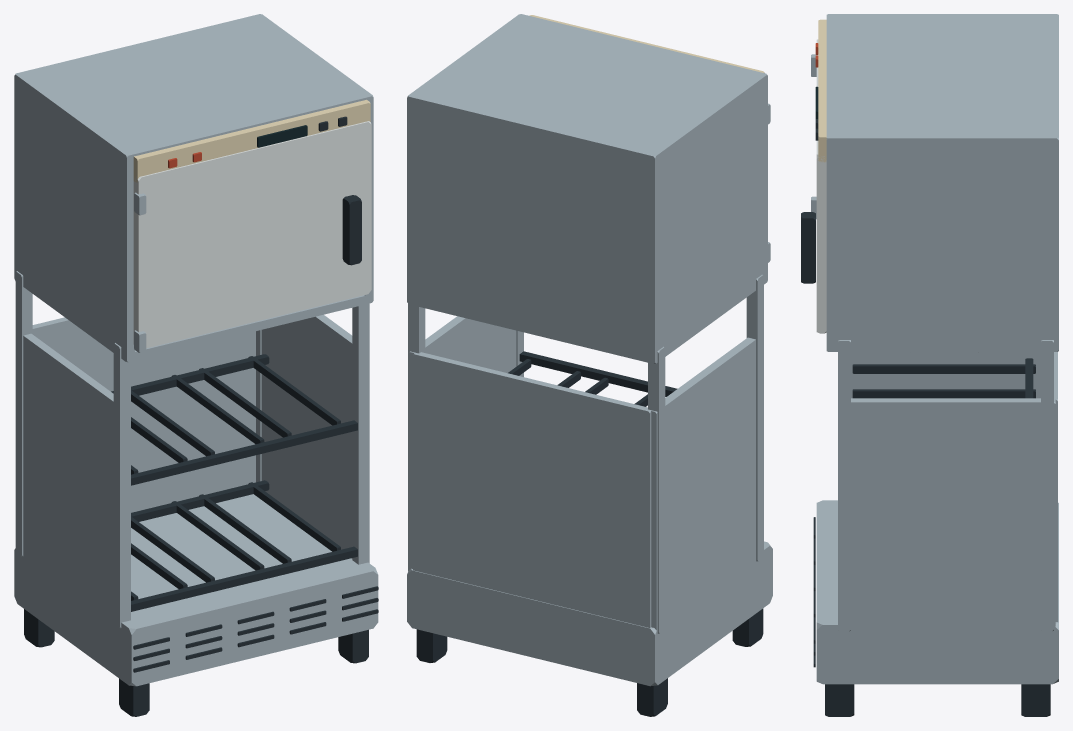
Rendered from FryHopper.glb.
3 renders of one model, left to right at view 1: azimuth 30°, elevation 25°; view 2: azimuth 150°, elevation 25°; view 3: azimuth 270°, elevation 25°, orthographic. The views are drawn at different scales.
Parts seen in each view (by area): view 1: Body, Door, Vent; view 2: Body; view 3: Body, Door, Vent.
Boxes of the visible parts, bbox=[...] form: Body: bbox=[14, 14, 378, 716]; Door: bbox=[133, 121, 371, 348]; Vent: bbox=[133, 586, 378, 672]; Body: bbox=[407, 14, 772, 716]; Body: bbox=[811, 14, 1058, 716]; Door: bbox=[801, 39, 826, 333]; Vent: bbox=[813, 517, 815, 667].
Size of the model in its own units: 0.91 by 1.96 by 0.7875.
